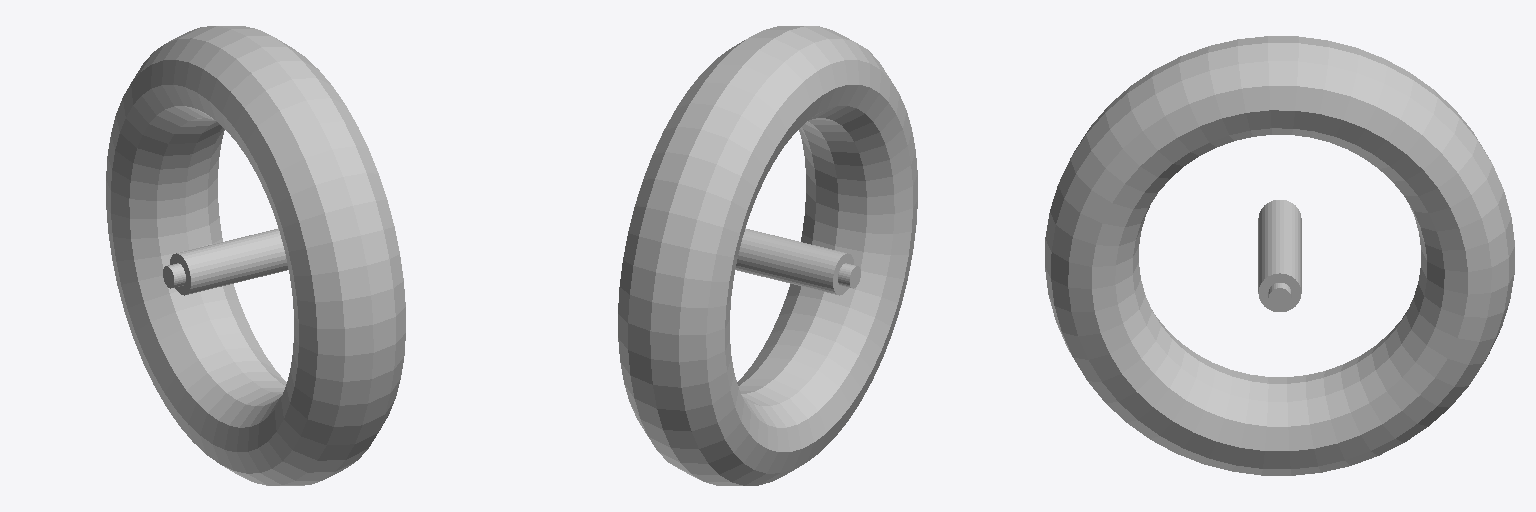
Rendered from planeFrontTire.obj.
The picture shows the model from 3 angles: view 1: azimuth 30°, elevation 25°; view 2: azimuth 150°, elevation 25°; view 3: azimuth 270°, elevation 25°; orthographic projection.
Parts seen in each view (by area): view 1: Cylinder.074_Cylinder.064; view 2: Cylinder.074_Cylinder.064; view 3: Cylinder.074_Cylinder.064.
Part boxes in pixels (bbox=[...]): Cylinder.074_Cylinder.064: bbox=[106, 26, 405, 485]; Cylinder.074_Cylinder.064: bbox=[618, 26, 917, 485]; Cylinder.074_Cylinder.064: bbox=[1045, 36, 1514, 475].
Bounding box in the file's own units: 45.61 × 106 × 106.